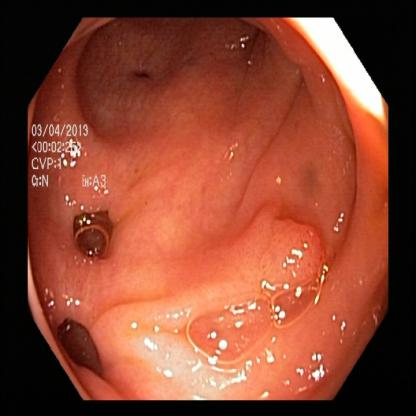Labels: (31, 120, 107, 198)
Polyps: (248, 225, 322, 283)
